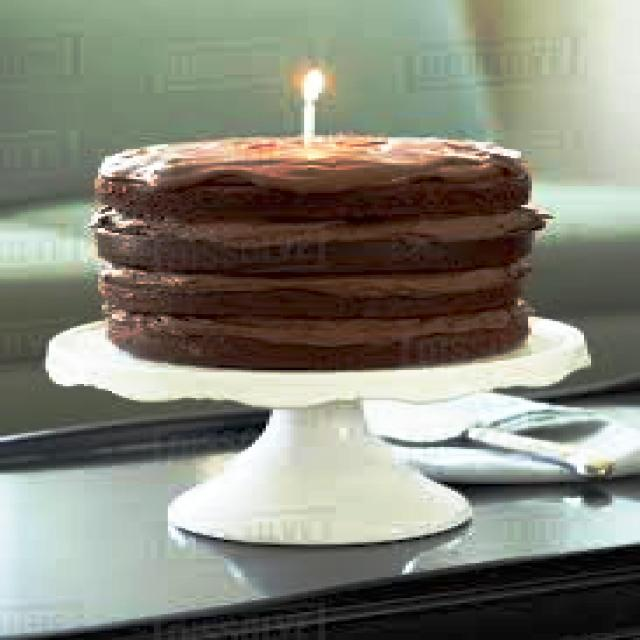api: (288, 67, 326, 104)
